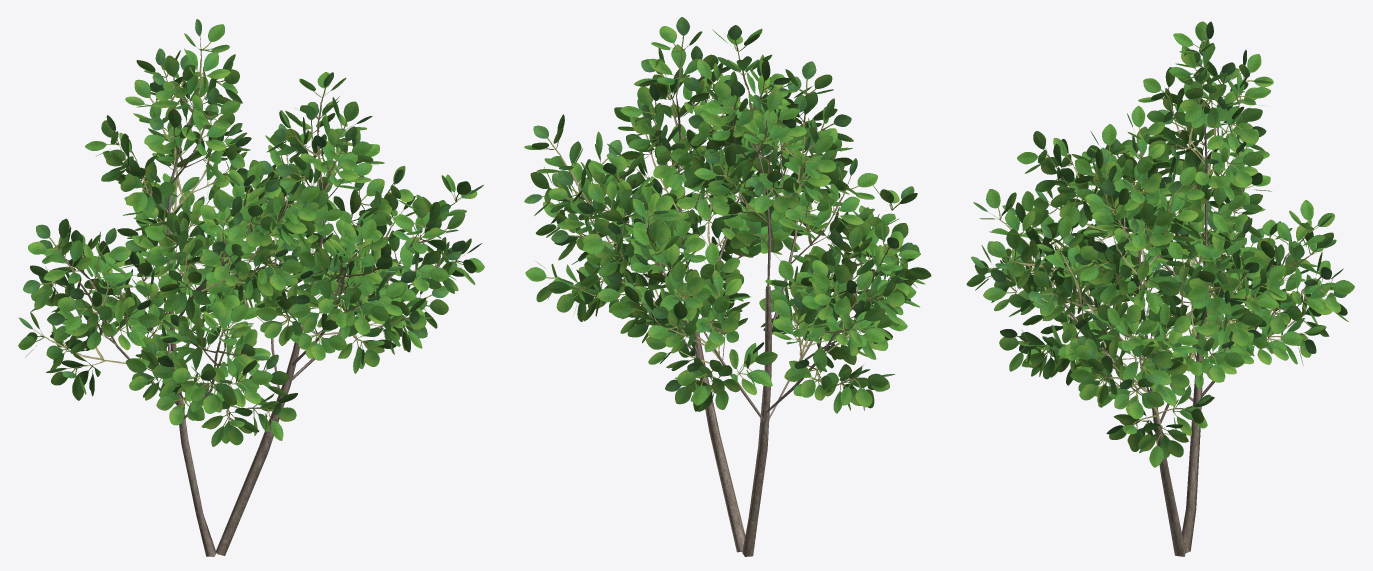
Rendered from MS_ShrubTree05a.fbx.
3 views of the same model, side by side, from view 1: azimuth 30°, elevation 25°; view 2: azimuth 150°, elevation 25°; view 3: azimuth 270°, elevation 25° (orthographic). The views are drawn at different scales.
Parts seen in each view (by area): view 1: Leaves, TreeBare; view 2: Leaves, TreeBare; view 3: Leaves, TreeBare.
Part boxes in pixels (left/top/right/bottom): Leaves: left=18, top=19, right=484, bottom=446; TreeBare: left=98, top=138, right=393, bottom=556; Leaves: left=524, top=17, right=931, bottom=413; TreeBare: left=605, top=139, right=842, bottom=556; Leaves: left=966, top=21, right=1354, bottom=467; TreeBare: left=1064, top=125, right=1257, bottom=556.
Bounding box in the file's own units: 427 × 513 × 344.
